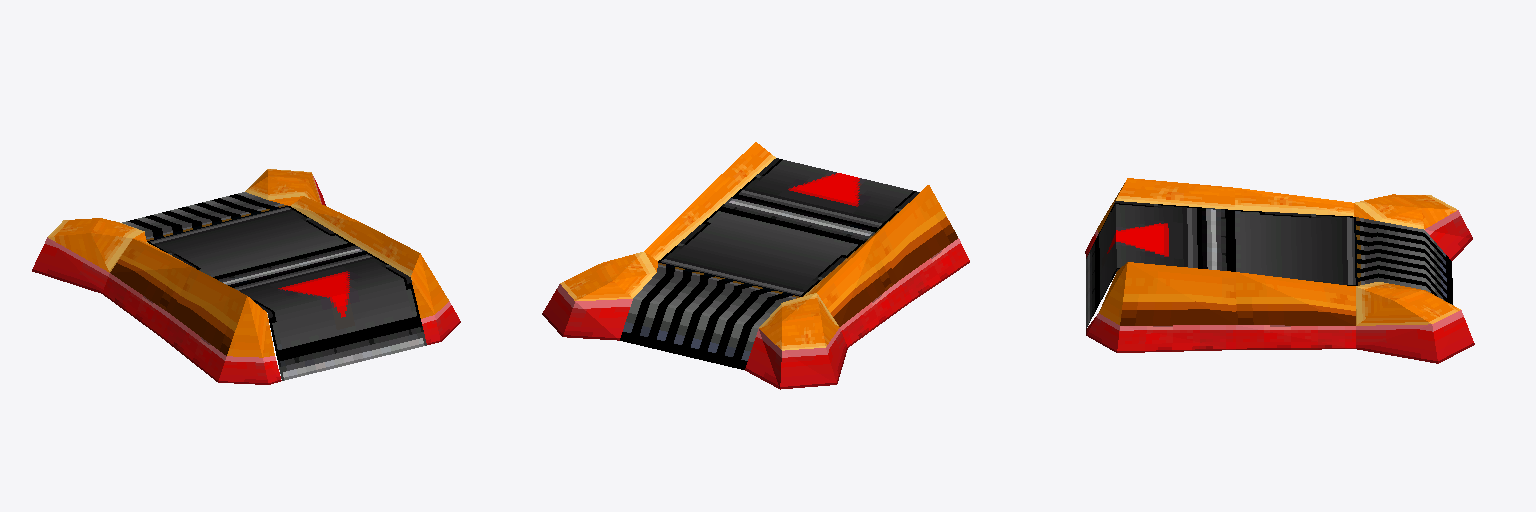
3 renders of one model, left to right at view 1: azimuth 30°, elevation 25°; view 2: azimuth 150°, elevation 25°; view 3: azimuth 270°, elevation 25°, orthographic.
Visible parts, largest first — view 1: md2->unnamed; view 2: md2->unnamed; view 3: md2->unnamed.
Part boxes in pixels (x1,y1,x2,y2): md2->unnamed: (32, 169, 460, 384); md2->unnamed: (542, 142, 969, 389); md2->unnamed: (1085, 178, 1474, 363).
Size of the model in its own units: 72.41 by 17.45 by 83.22.
1 materials, 1 textured.